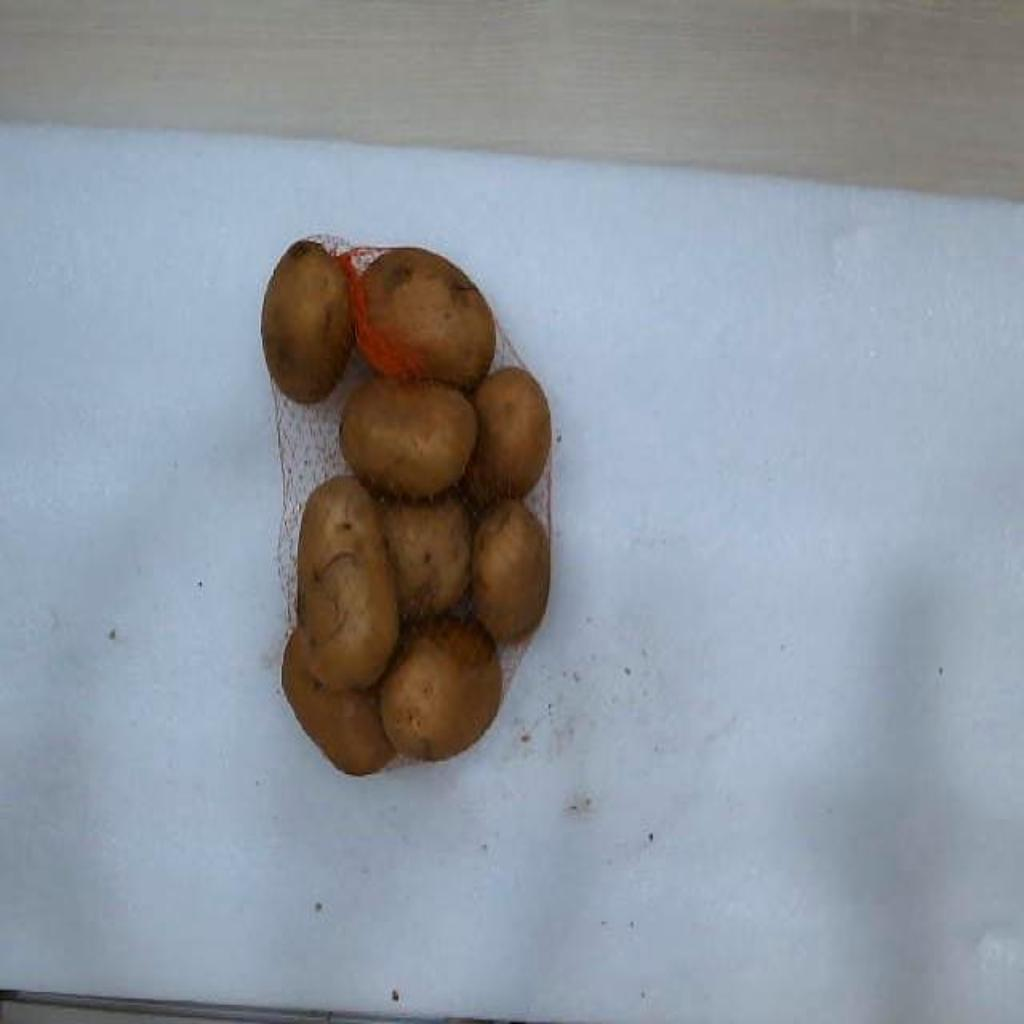potato: (298, 475, 400, 689), (354, 248, 496, 388), (380, 619, 502, 759), (340, 376, 478, 497), (282, 629, 396, 775), (262, 240, 354, 403), (464, 368, 552, 503), (380, 493, 470, 619), (472, 499, 550, 641)
